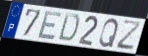2: (78, 15, 99, 47)
7: (22, 8, 43, 37)
D: (57, 12, 81, 43)
E: (36, 10, 64, 41)
Q: (98, 18, 120, 49)
Z: (115, 20, 142, 52)
